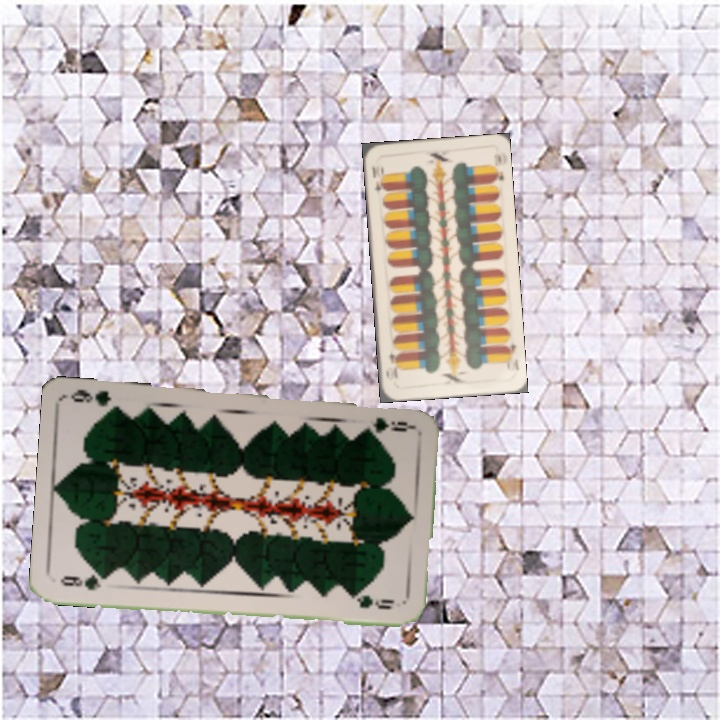E10: (500, 338, 521, 373), (368, 162, 388, 198)
G9: (57, 572, 113, 593), (359, 413, 414, 434)
